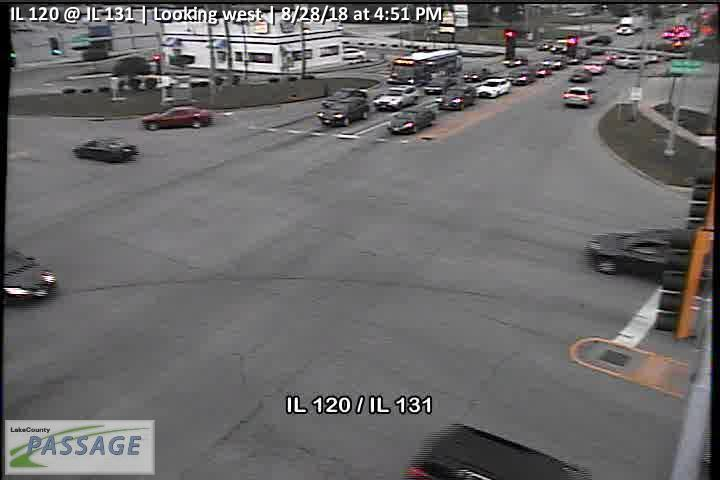SUV: (316, 95, 371, 128), (373, 84, 420, 112), (509, 66, 537, 85), (614, 52, 642, 68), (581, 59, 608, 73)
Sedan: (142, 105, 212, 131), (72, 137, 138, 163), (385, 107, 437, 135), (474, 77, 512, 98), (562, 87, 598, 107), (567, 69, 592, 82)
Truck: (387, 48, 463, 80), (423, 77, 457, 94)
